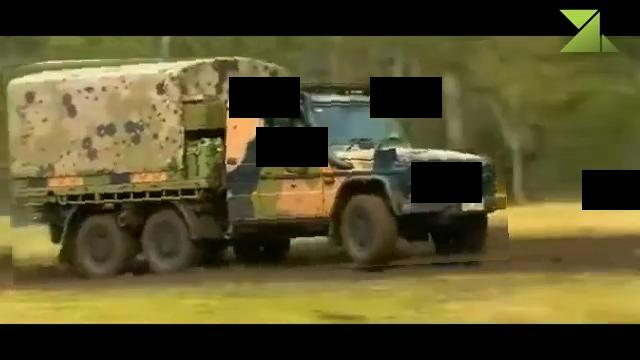MIL_HMMWV: (6, 46, 507, 279)
